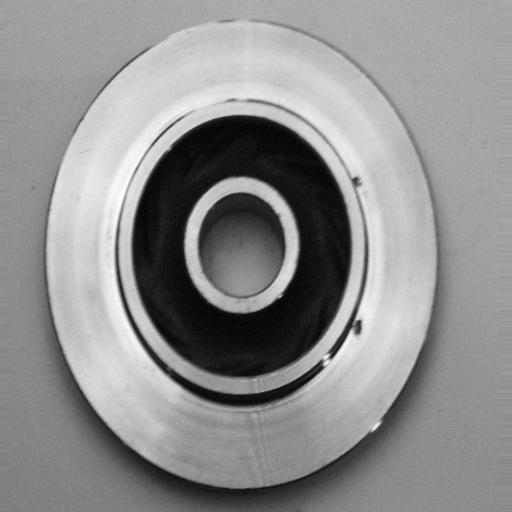crack: (344, 164, 367, 204), (347, 306, 369, 347)
scratch: (173, 90, 261, 116), (314, 346, 338, 383)
unpolished_casting: (44, 17, 441, 493)
